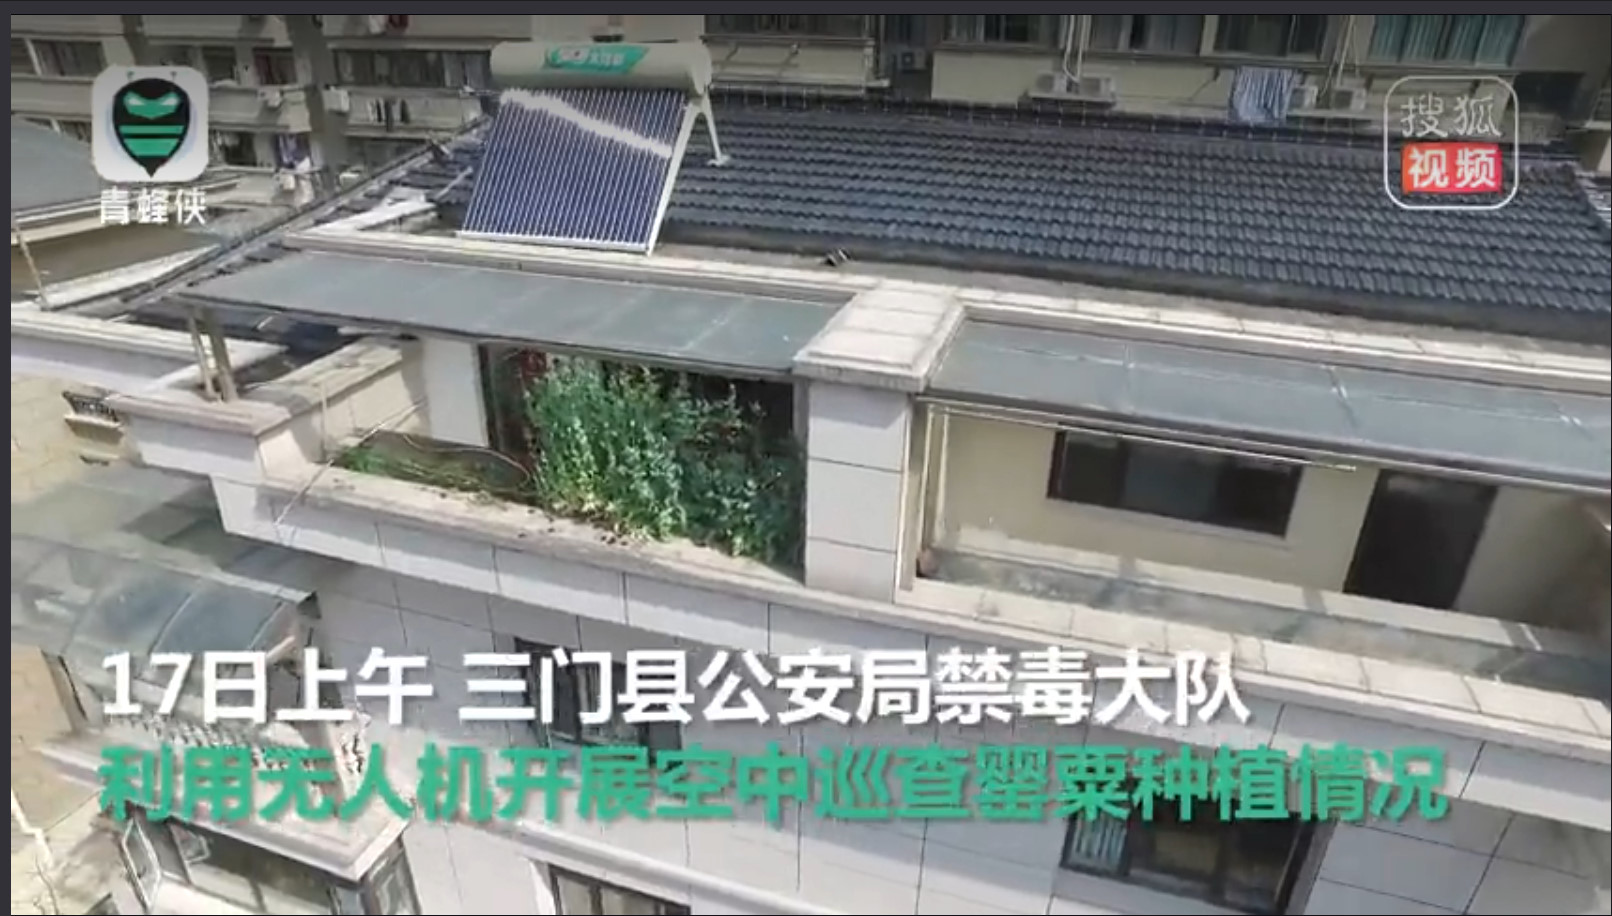Poppy: (505, 342, 809, 574)
